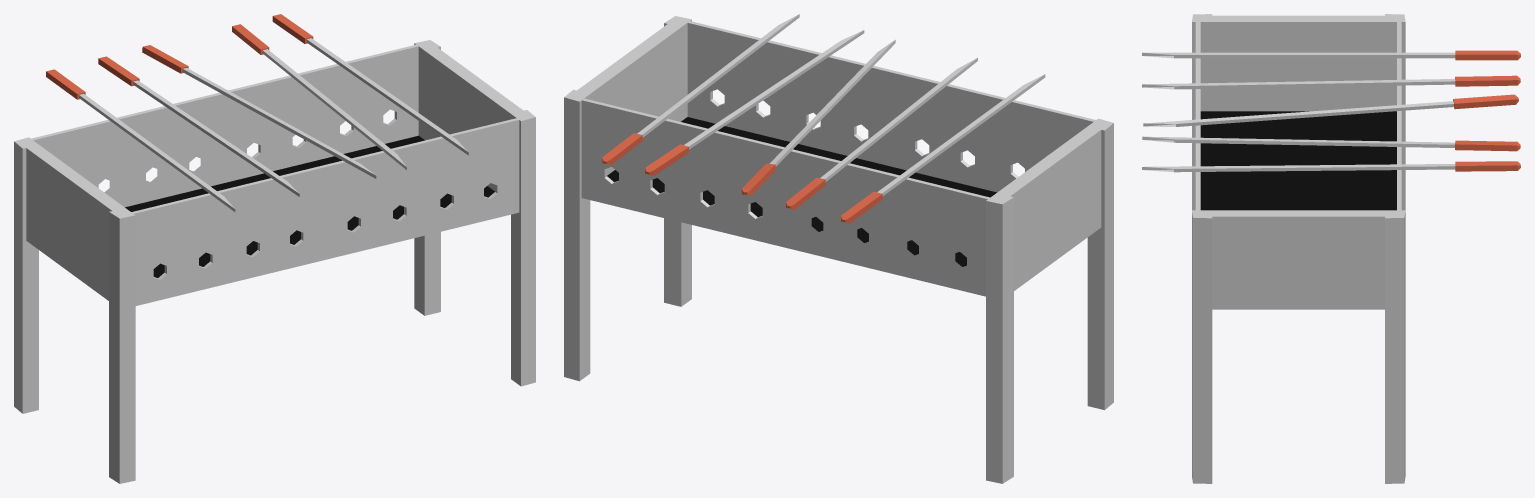
Rendered from Barbeque.fbx.
3 renders of one model, left to right at view 1: azimuth 30°, elevation 25°; view 2: azimuth 150°, elevation 25°; view 3: azimuth 270°, elevation 25°, orthographic. The views are drawn at different scales.
Visible parts, largest first — view 1: Cube.001; view 2: Cube.001; view 3: Cube.001.
Part boxes in pixels (x1,y1,x2,y2): Cube.001: [14, 14, 535, 483]; Cube.001: [564, 14, 1113, 483]; Cube.001: [1142, 14, 1520, 483].
Bounding box in the file's own units: 943 × 593 × 739.
